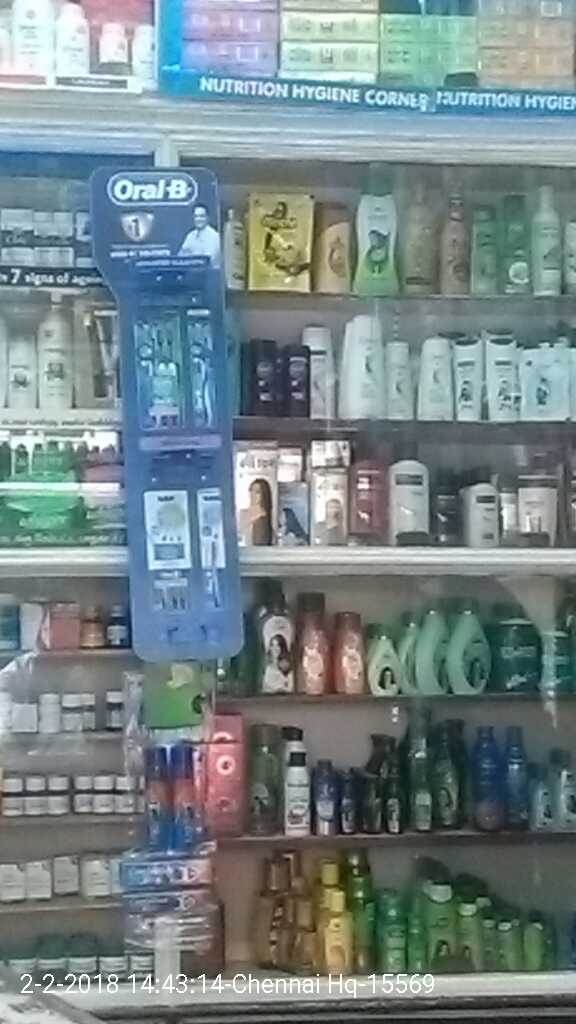beauty: (1, 209, 33, 267), (52, 211, 75, 269), (33, 211, 52, 268)
pharmacy: (1, 490, 78, 548), (77, 494, 127, 548)
